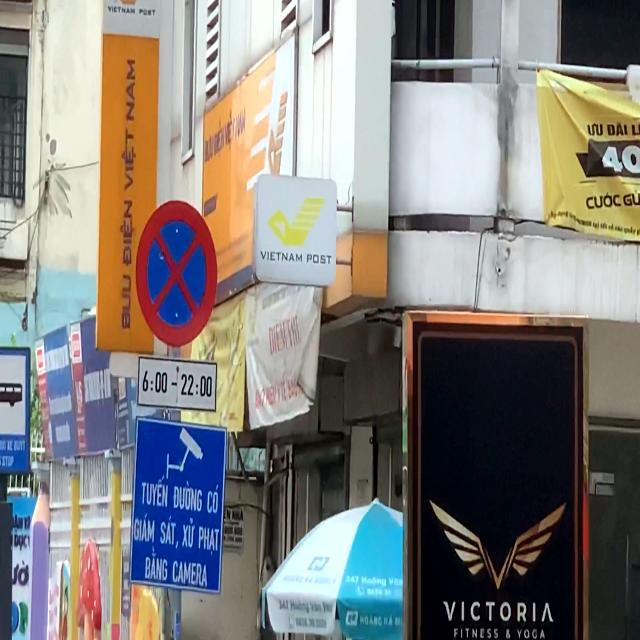P.130: (136, 200, 218, 347)
